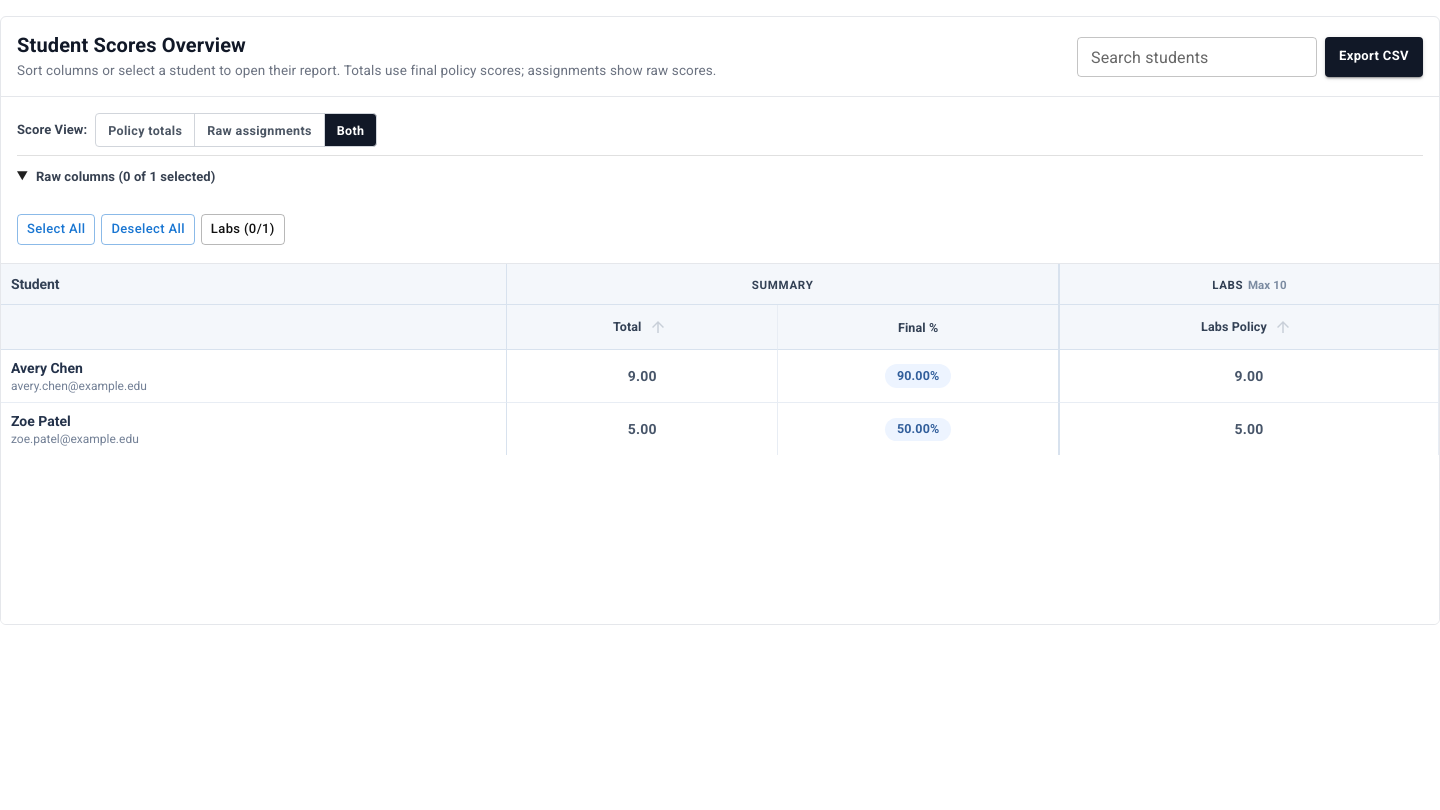
it: Admin section URL state › raw column controls use progressive disclosure without changing their behavior
The width and height of the screenshot is (1440, 810).
Expected: the button with aria-label "View report for Avery Chen (avery.chen@example.edu)" is shown, [11, 359, 147, 394]
Expected: the button "Export CSV" is enabled, [1325, 37, 1423, 77]
Click the heading "Raw columns (0 of 1 selected)" at [126, 177], box [36, 169, 215, 184]
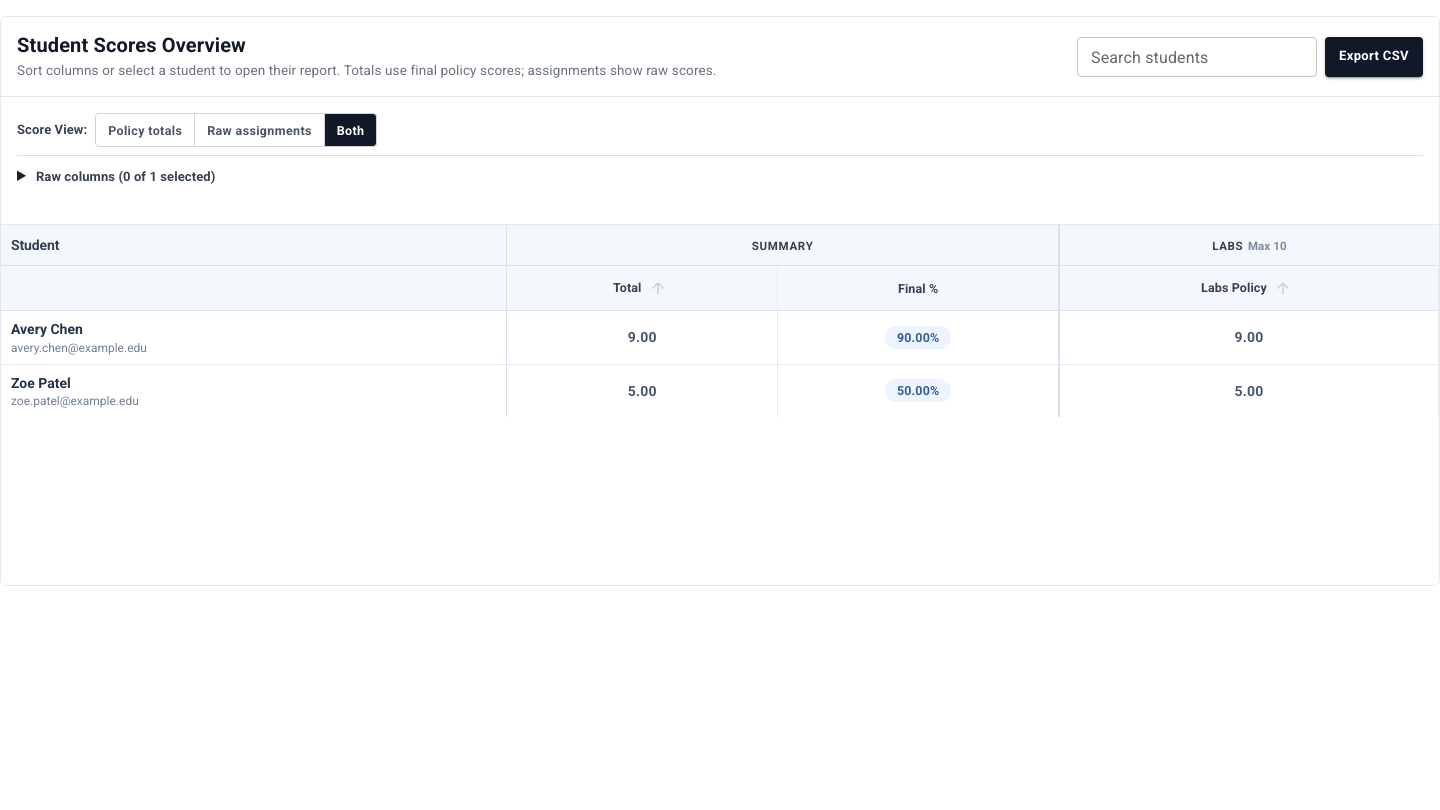
Now the text "Raw columns (0 of 1 selected)" does not have attribute open, box [17, 155, 1423, 208]
Click the heading "Raw columns (0 of 1 selected)" at [126, 177], box [36, 169, 215, 184]
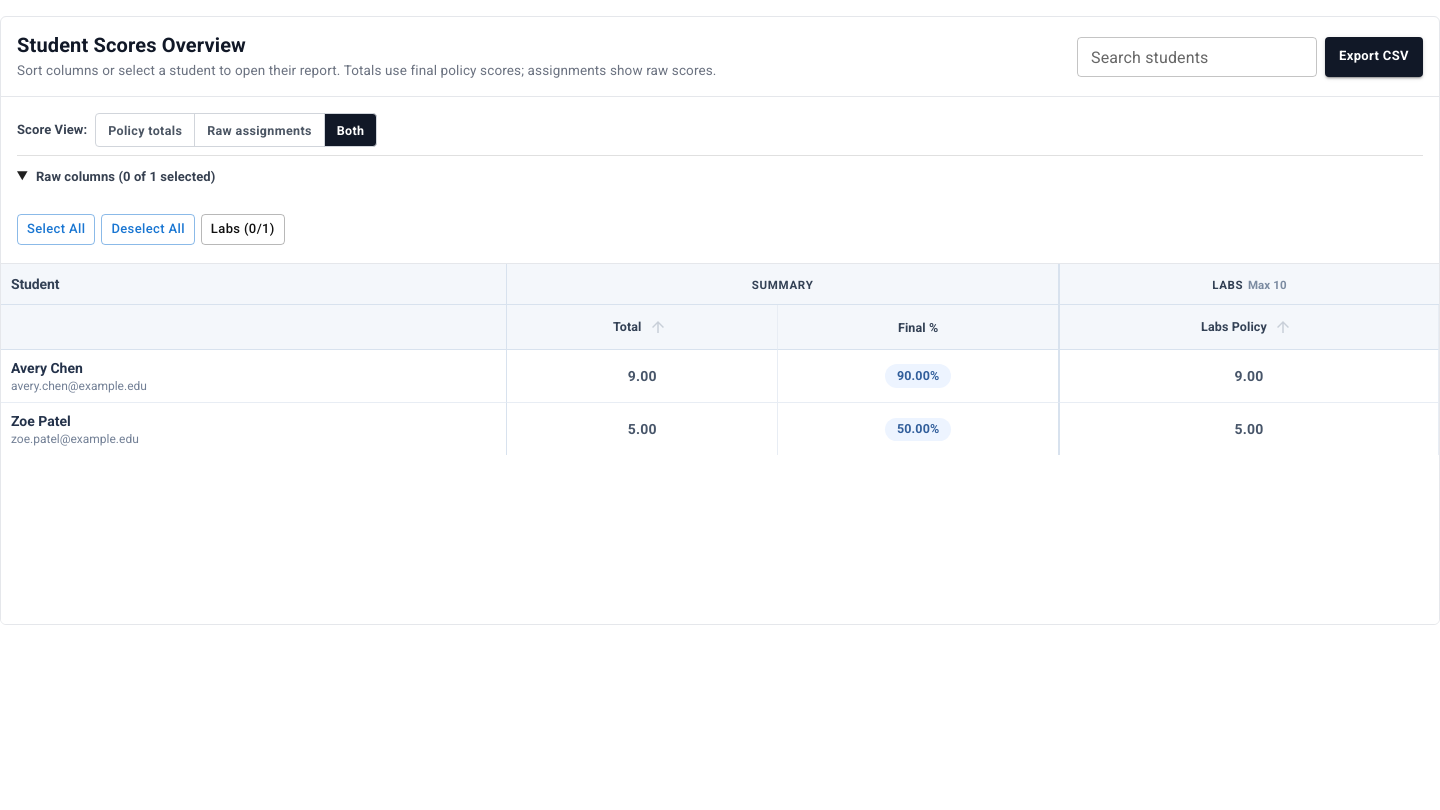
Now the text "Raw columns (0 of 1 selected)" has attribute open, box [17, 155, 1423, 247]
Click the button "Select All" at [56, 230], box [17, 214, 95, 245]
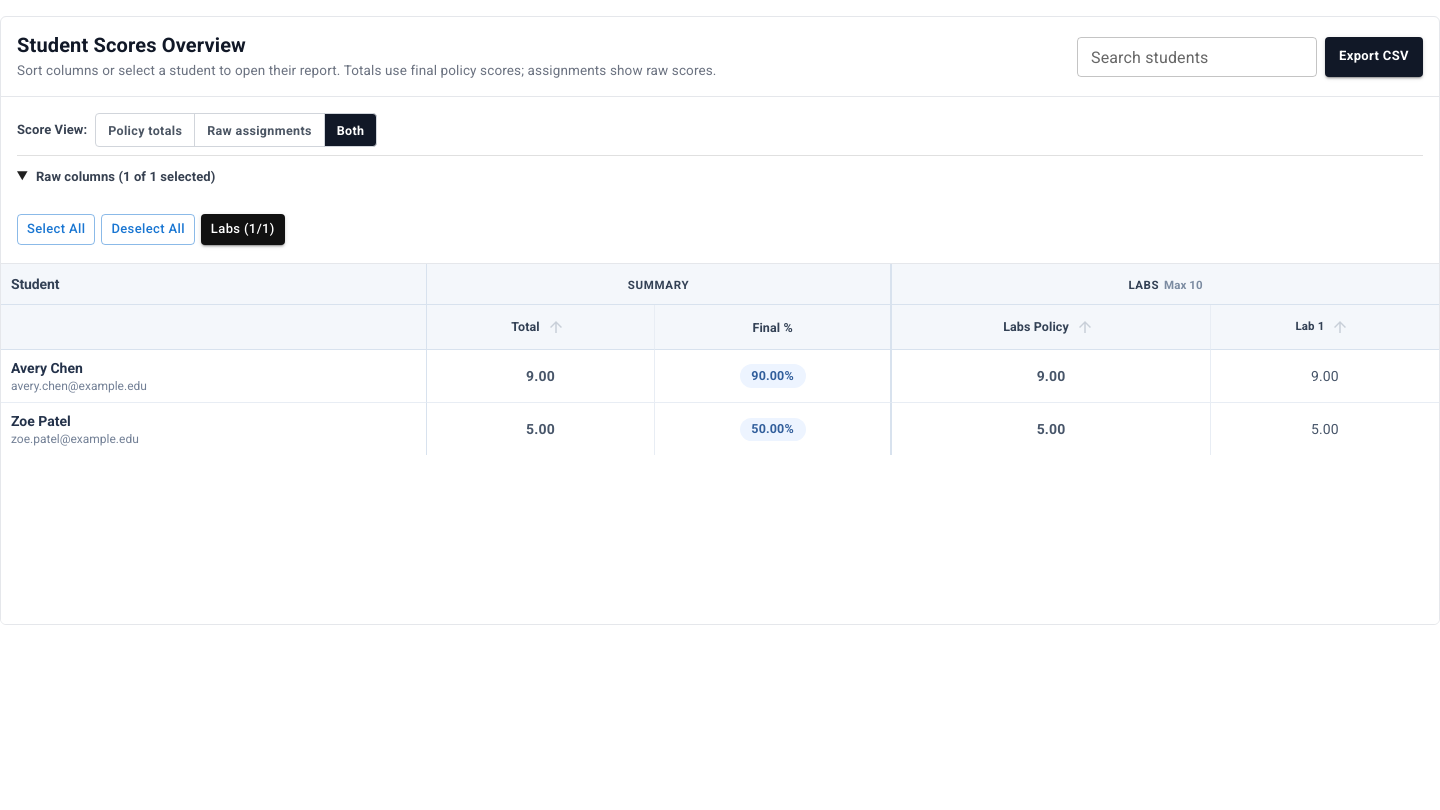
Now the text "Raw columns (1 of 1 selected)" is shown, box [36, 169, 215, 184]
Now the button "Labs (1/1)" is shown, box [201, 214, 285, 245]
